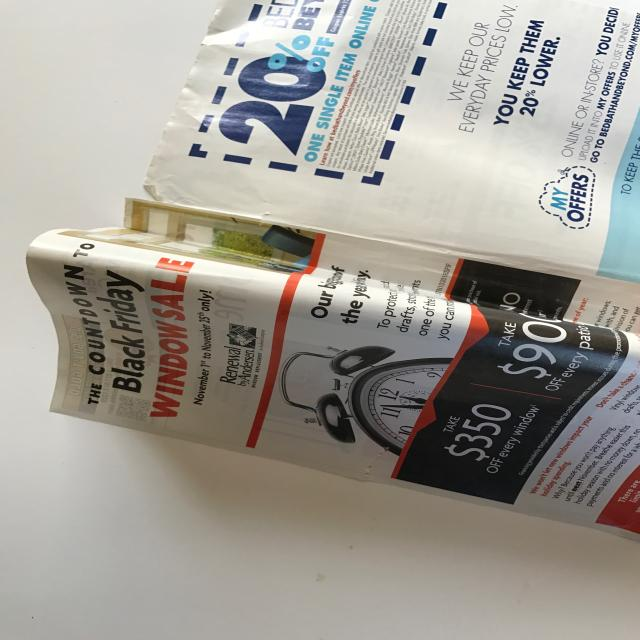paper: (15, 0, 640, 553)
